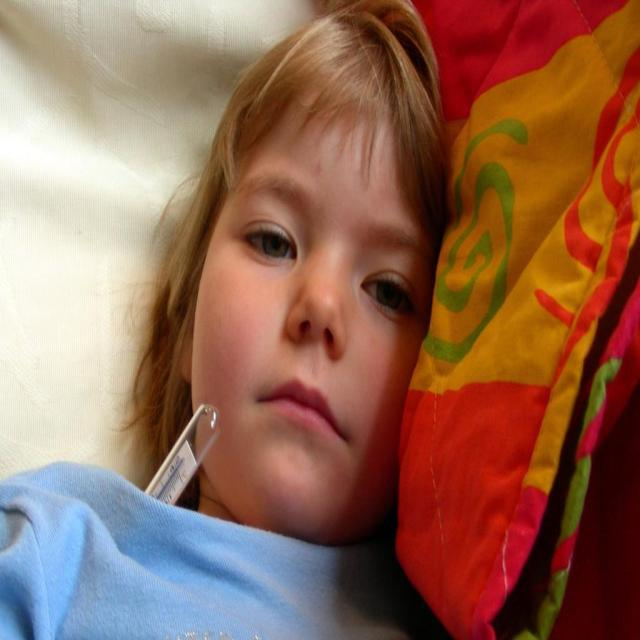no-glass: (236, 221, 414, 318)
